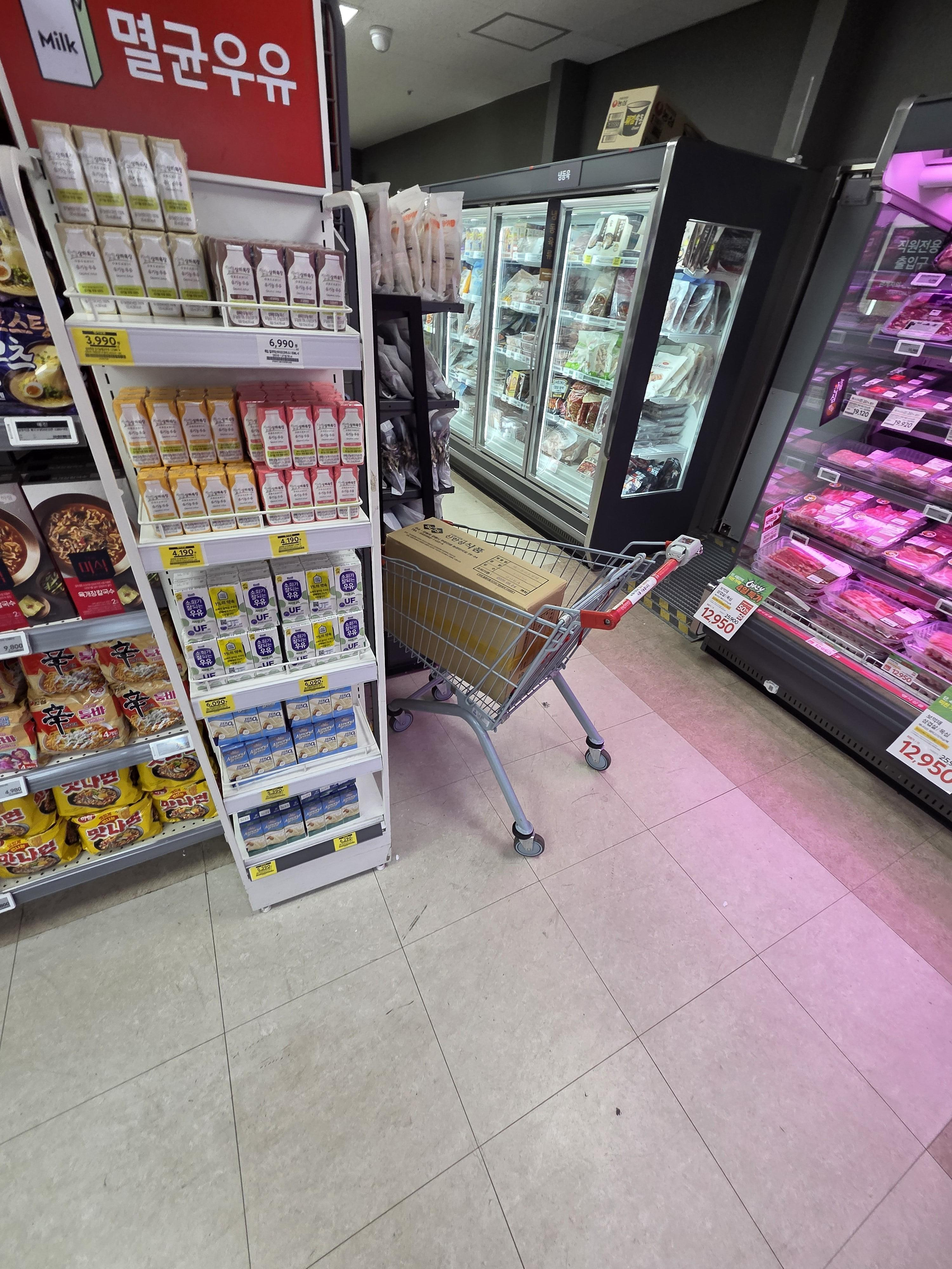fully_cart: (381, 507, 719, 871)
